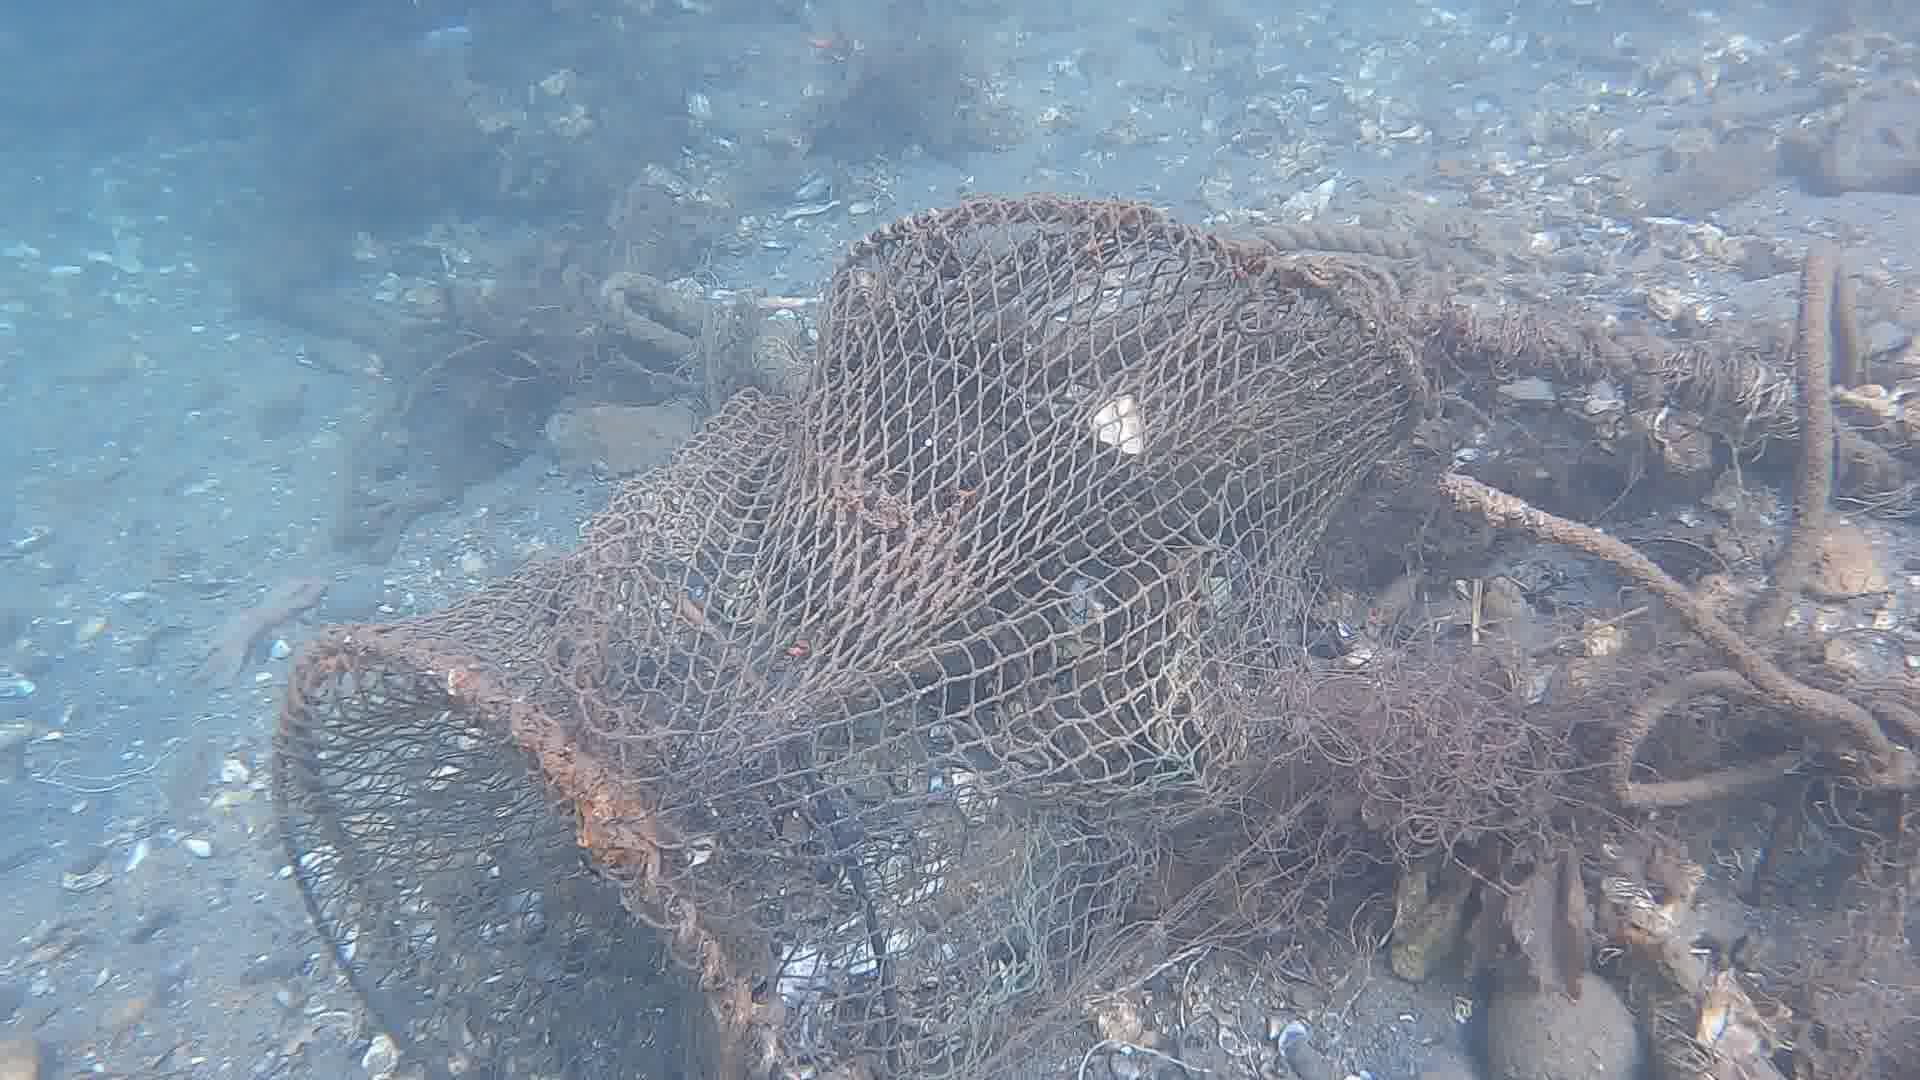rope: (1254, 218, 1423, 258)
spring fish trap: (269, 193, 1429, 1080)
